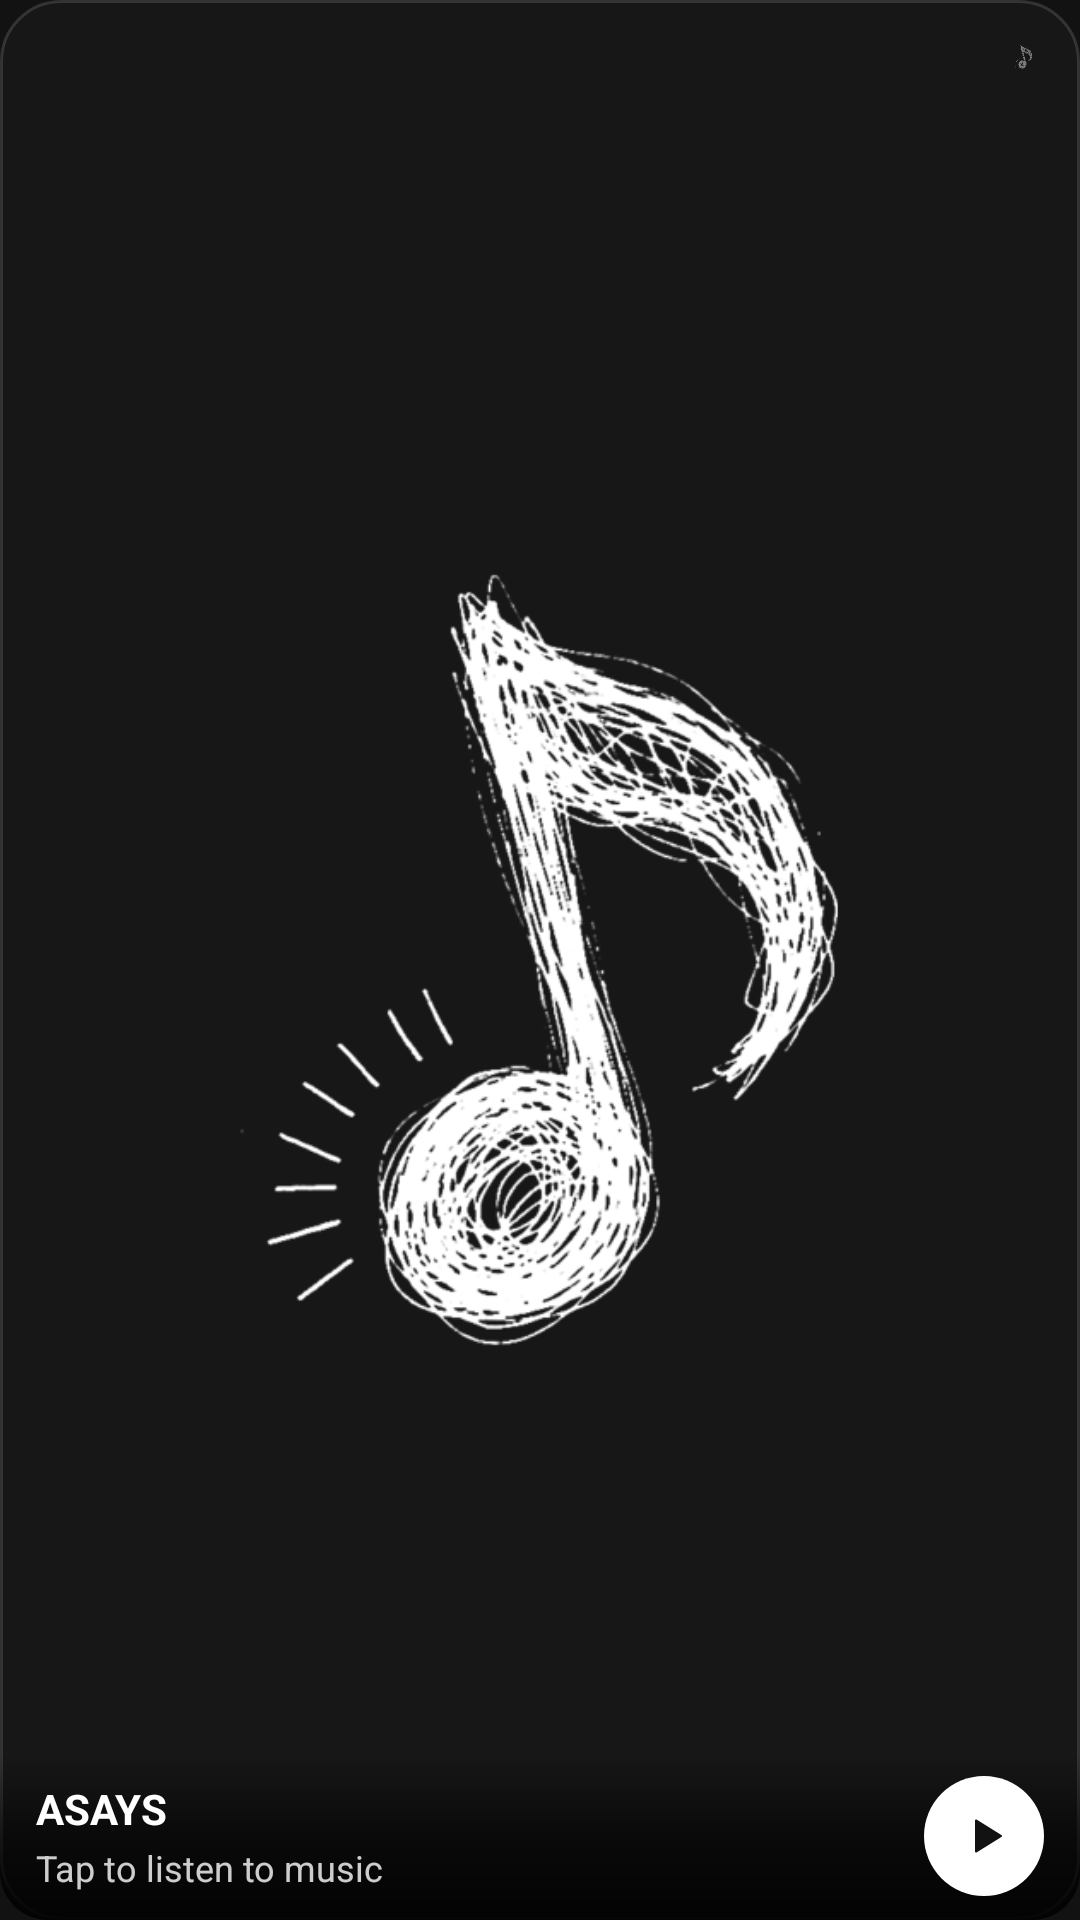

Named icons in this screenshot (1080px x 1920px) and their bounding boxes, bbox=(x1, y1, x2, y2):
Play: bbox=(924, 1776, 1044, 1896)
